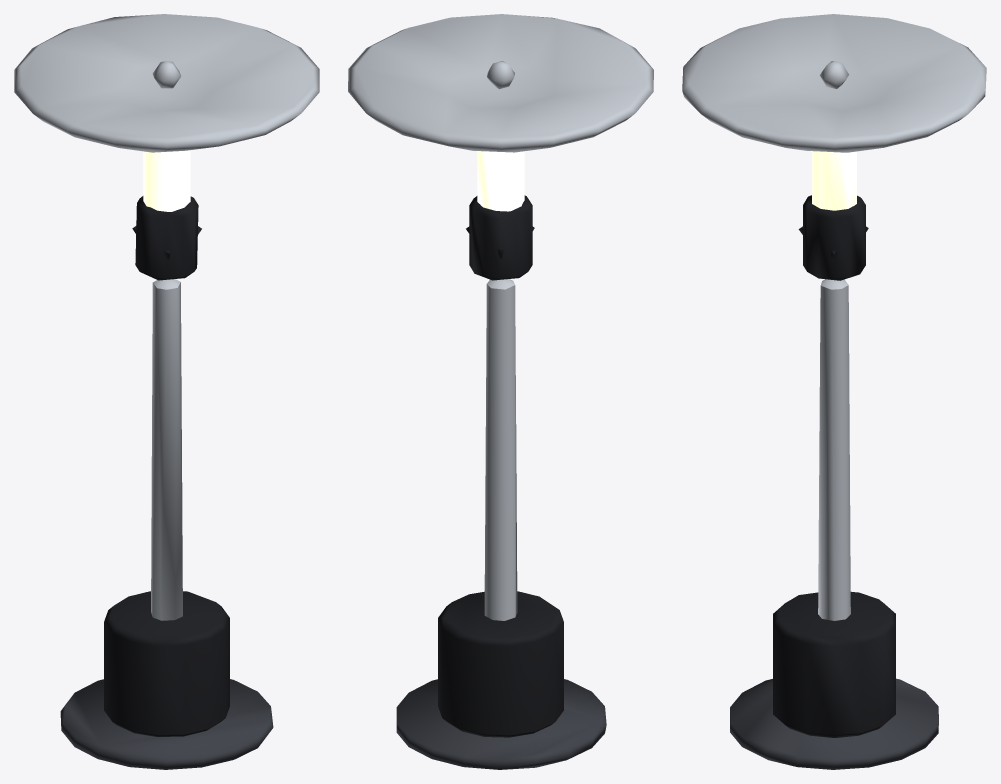
Rendered from patio_heater.glb.
3 renders of one model, left to right at view 1: azimuth 30°, elevation 25°; view 2: azimuth 150°, elevation 25°; view 3: azimuth 270°, elevation 25°, orthographic.
Parts seen in each view (by area): view 1: patio_heater; view 2: patio_heater; view 3: patio_heater.
Boxes of the visible parts, x1,y1,x2,y2 form: patio_heater: [14, 14, 319, 769]; patio_heater: [348, 14, 653, 769]; patio_heater: [682, 14, 986, 769].
Bounding box in the file's own units: 0.9835 × 2.33 × 0.9651.
